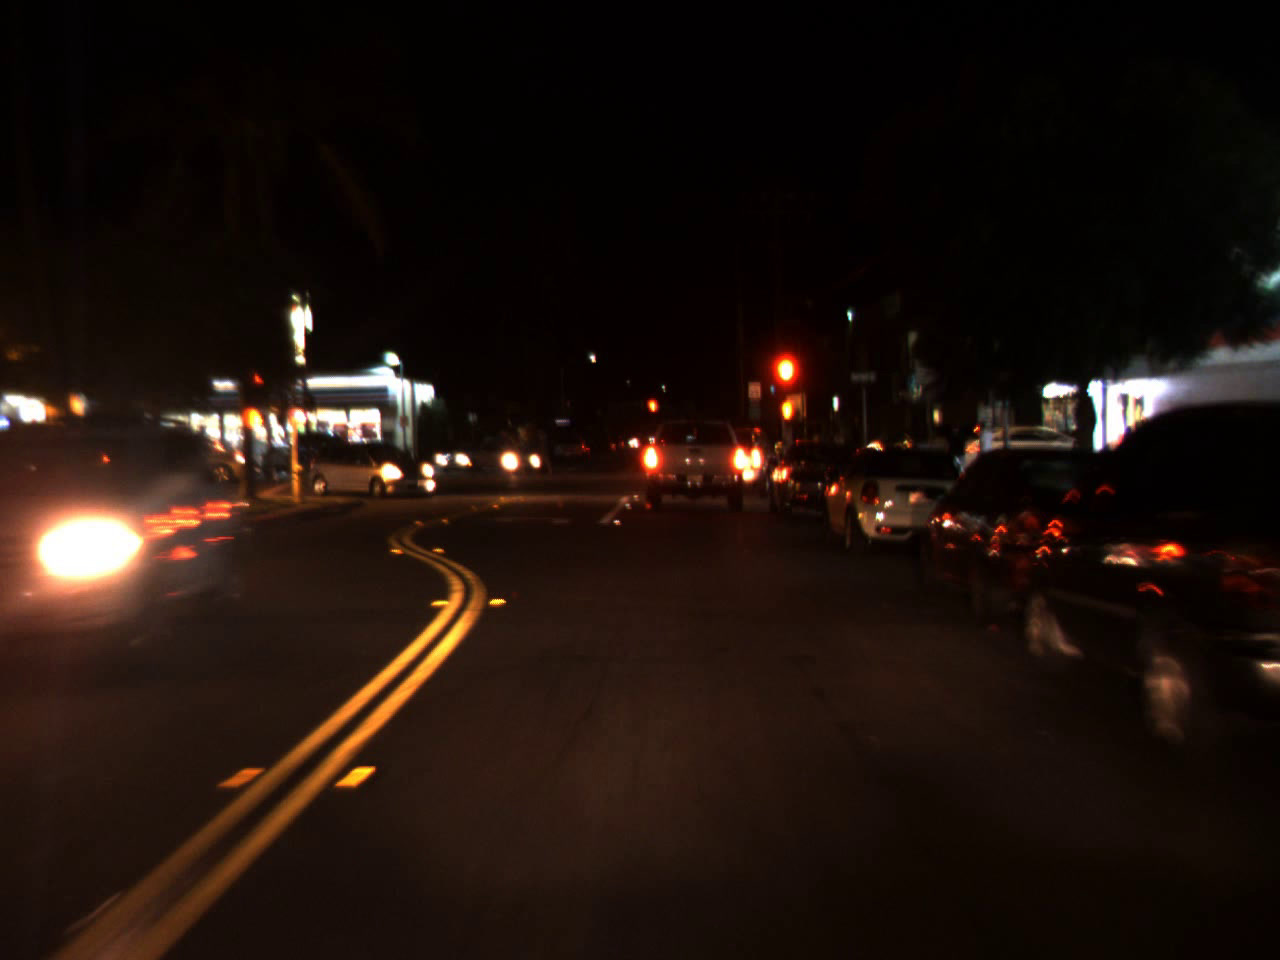stop: (771, 354, 799, 416), (645, 397, 660, 429), (253, 374, 263, 390)
